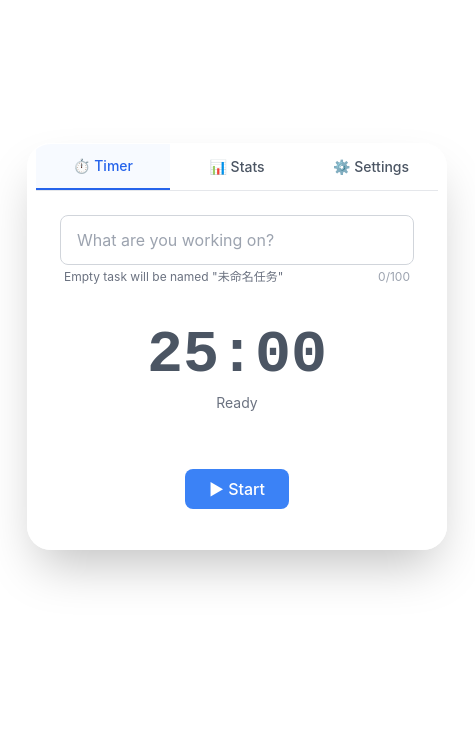
App › should switch to settings view
This screenshot has width=475, height=745.
Click the button "⚙️ Settings" at [371, 166], box [304, 144, 438, 190]
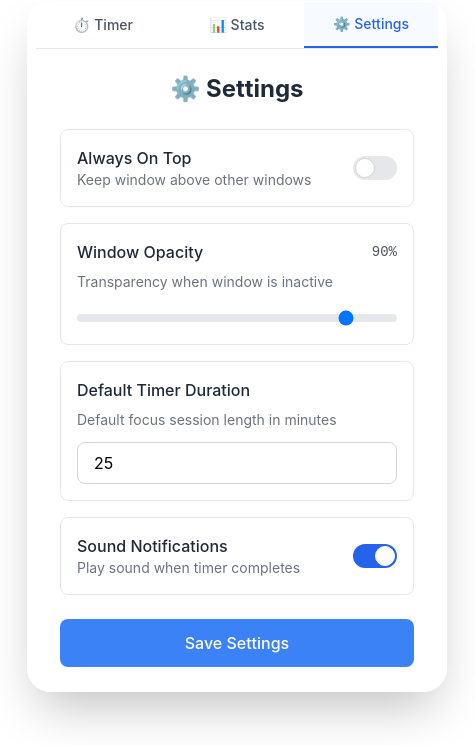
Expected: the element with class "settings-container" is shown
